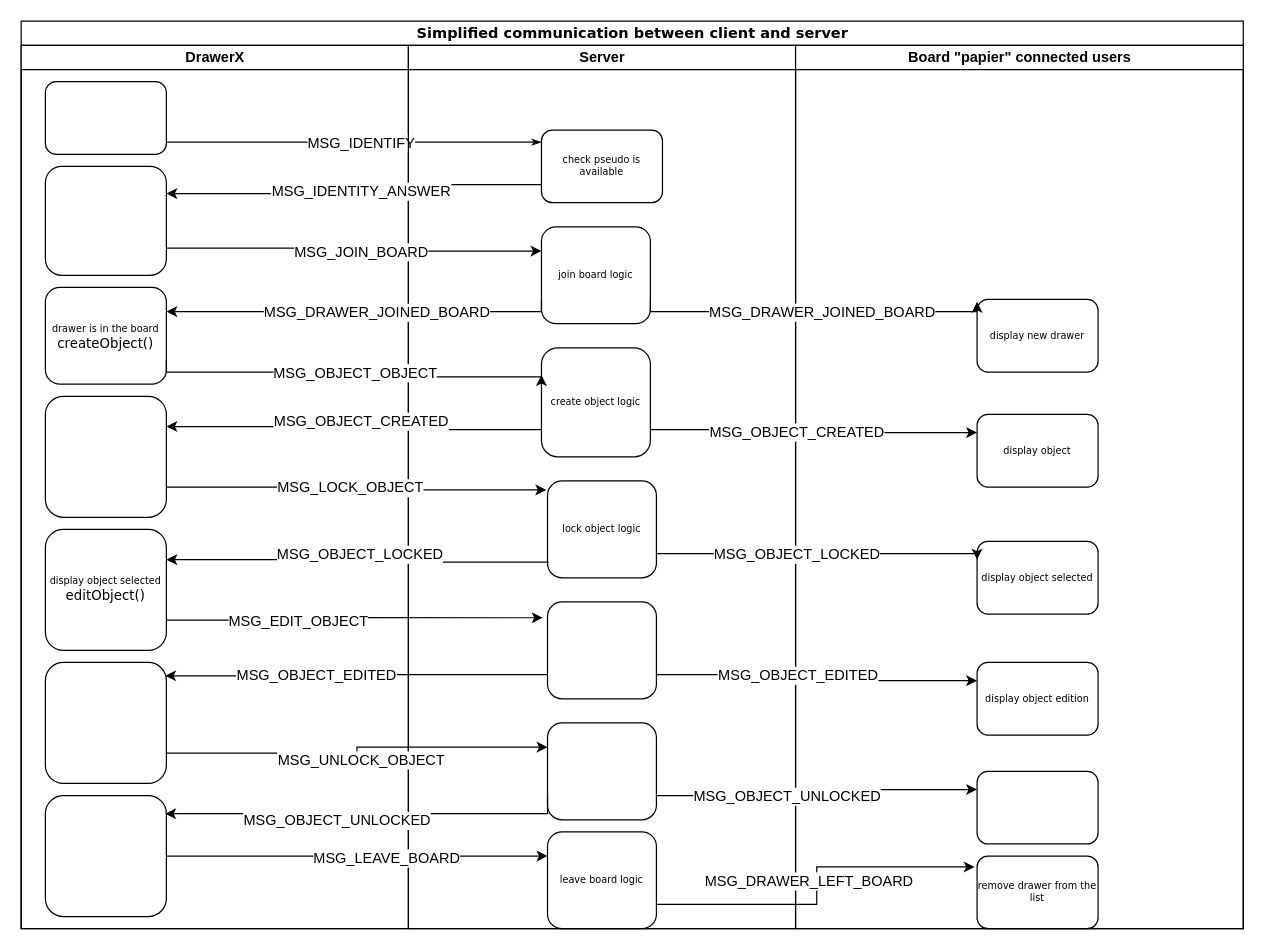
Image size: 1264x950. Some labels were removed from this diagram. Here are the shapes that lost their labels. From the top down, the centre of each, then its label:
point (105, 117): connect()
point (105, 220): drawer is identified AskJoinBoard ("papier")
point (105, 456): display created object selectObject()
point (601, 650): edit object logic
point (105, 722): display object edition unlockObject()
point (601, 771): unlock object logic
point (1037, 807): unselect selected object
point (105, 855): object is unlocked leaveBoard()
